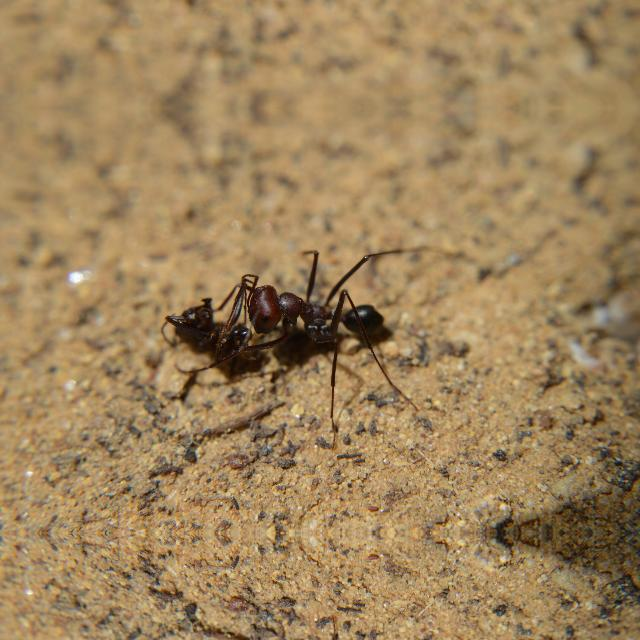Cataglyphis: (206, 259, 398, 357)
